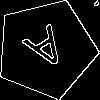A: (21, 24, 76, 81)
